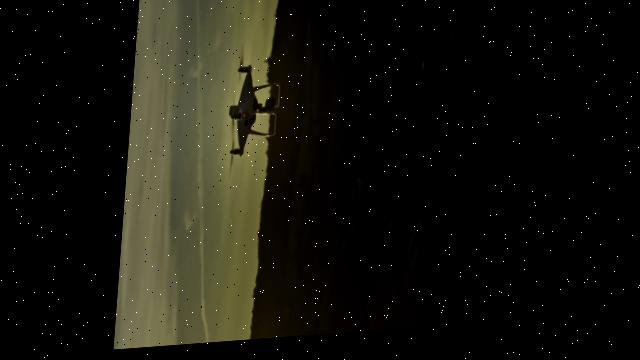drone: (227, 41, 286, 185)
